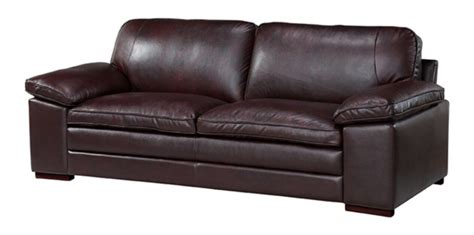cuero: (22, 16, 449, 217)
